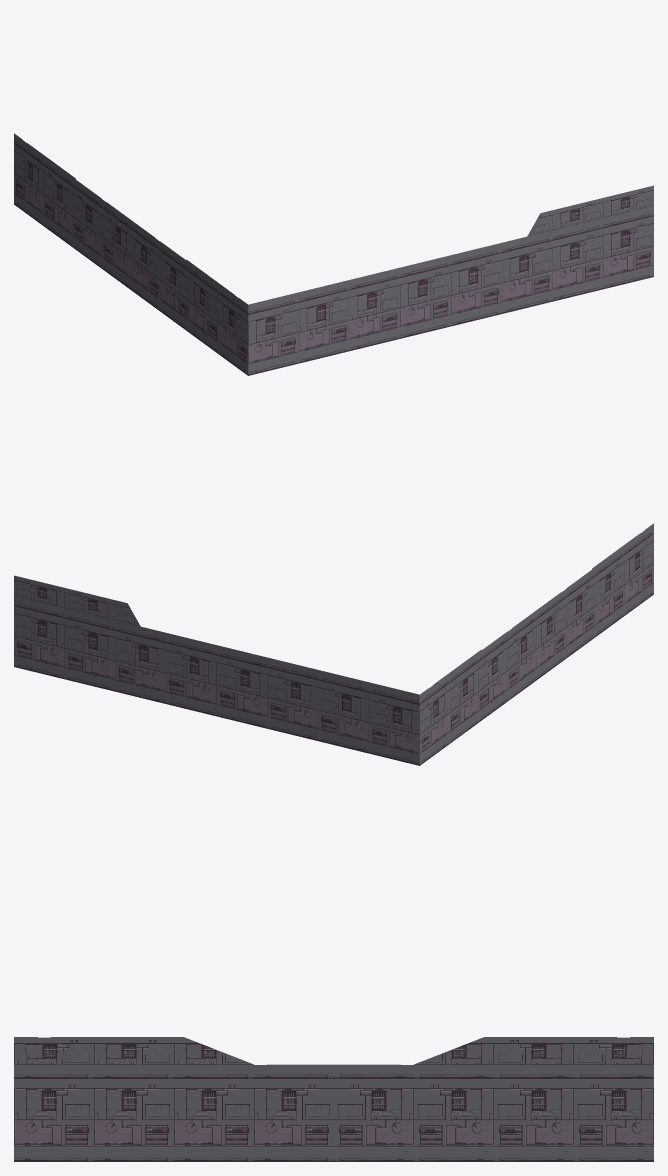
3 renders of one model, top to bottom at view 1: azimuth 30°, elevation 25°; view 2: azimuth 150°, elevation 25°; view 3: azimuth 270°, elevation 25°, orthographic. The views are drawn at different scales.
Parts seen in each view (by area): view 1: Joint_0_Object_0; view 2: Joint_0_Object_0; view 3: Joint_0_Object_0.
Part boxes in pixels (left/top/right/bottom): Joint_0_Object_0: left=14, top=133, right=653, bottom=375; Joint_0_Object_0: left=14, top=523, right=653, bottom=765; Joint_0_Object_0: left=14, top=1037, right=653, bottom=1161.
Bounding box in the file's own units: 10000 × 2155 × 10000.
Materials: 1 (1 with a texture image).
